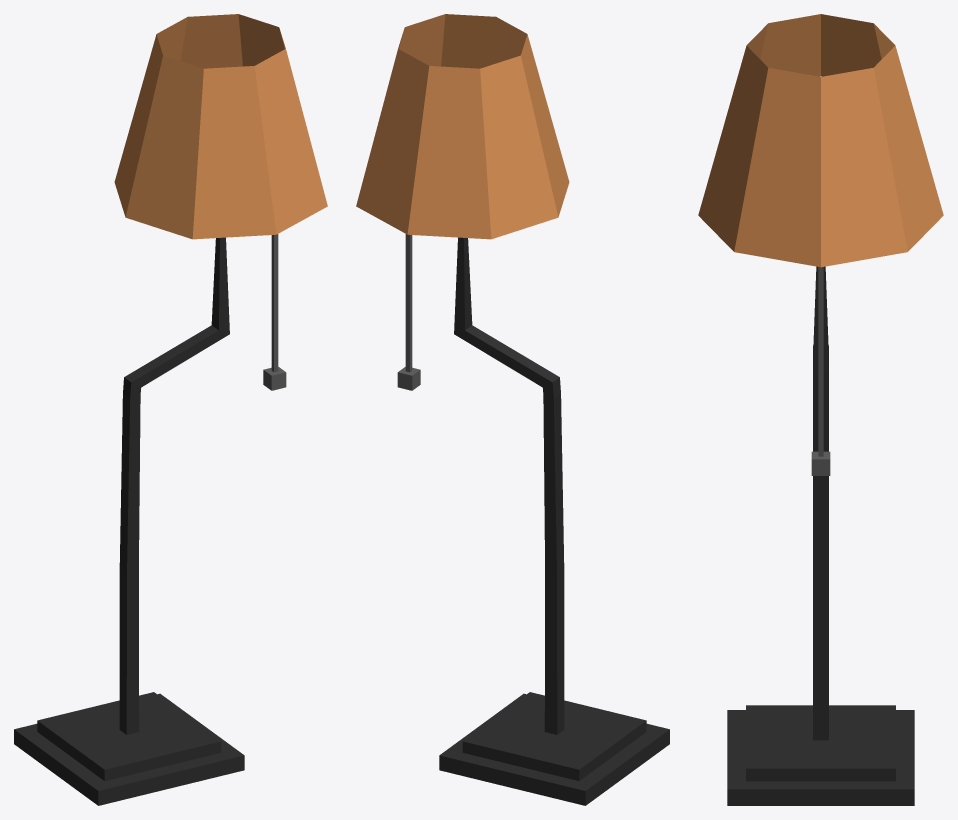
The model's file is lamp.glb.
3 renders of one model, left to right at view 1: azimuth 30°, elevation 25°; view 2: azimuth 150°, elevation 25°; view 3: azimuth 270°, elevation 25°, orthographic. The views are drawn at different scales.
Parts seen in each view (by area): view 1: lamp_shade, lamp_foot, lamp_switch; view 2: lamp_shade, lamp_foot, lamp_switch; view 3: lamp_shade, lamp_foot, lamp_switch.
Part boxes in pixels (<box>): lamp_shade: <box>114,14,327,239</box>; lamp_foot: <box>14,237,244,805</box>; lamp_switch: <box>263,234,286,390</box>; lamp_shade: <box>356,14,569,239</box>; lamp_foot: <box>439,237,669,805</box>; lamp_switch: <box>397,234,420,390</box>; lamp_shade: <box>698,14,943,267</box>; lamp_foot: <box>727,266,914,805</box>; lamp_switch: <box>811,267,830,475</box>.
Size of what is drawn, in the model's own units: 1.03 by 2.61 by 0.7535.
2 materials, 2 textured.
